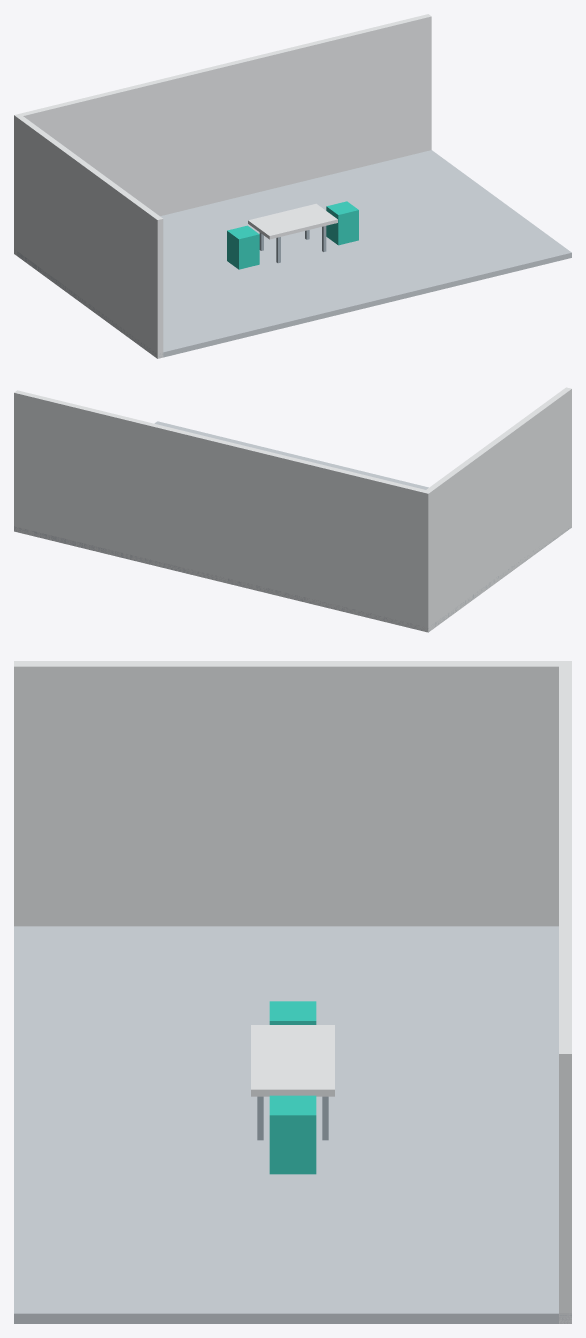
3 views of the same model, one above another, from view 1: azimuth 30°, elevation 25°; view 2: azimuth 150°, elevation 25°; view 3: azimuth 270°, elevation 25° (orthographic). The views are drawn at different scales.
Parts seen in each view (by area): view 1: Exhibition Booth Concept; view 2: Exhibition Booth Concept; view 3: Exhibition Booth Concept.
Boxes of the visible parts, <box> form: Exhibition Booth Concept: <box>14,14,571,358</box>; Exhibition Booth Concept: <box>14,387,571,632</box>; Exhibition Booth Concept: <box>14,661,571,1323</box>.
Size of the model in its own units: 10 by 3.2 by 6.
